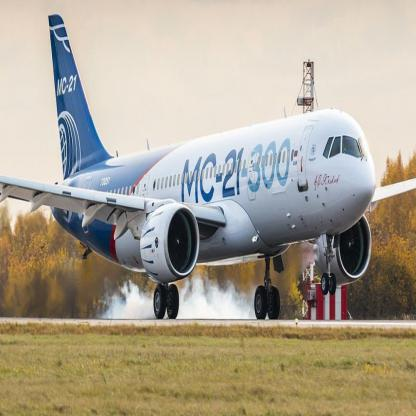CIV_Plane: (0, 9, 413, 332)
